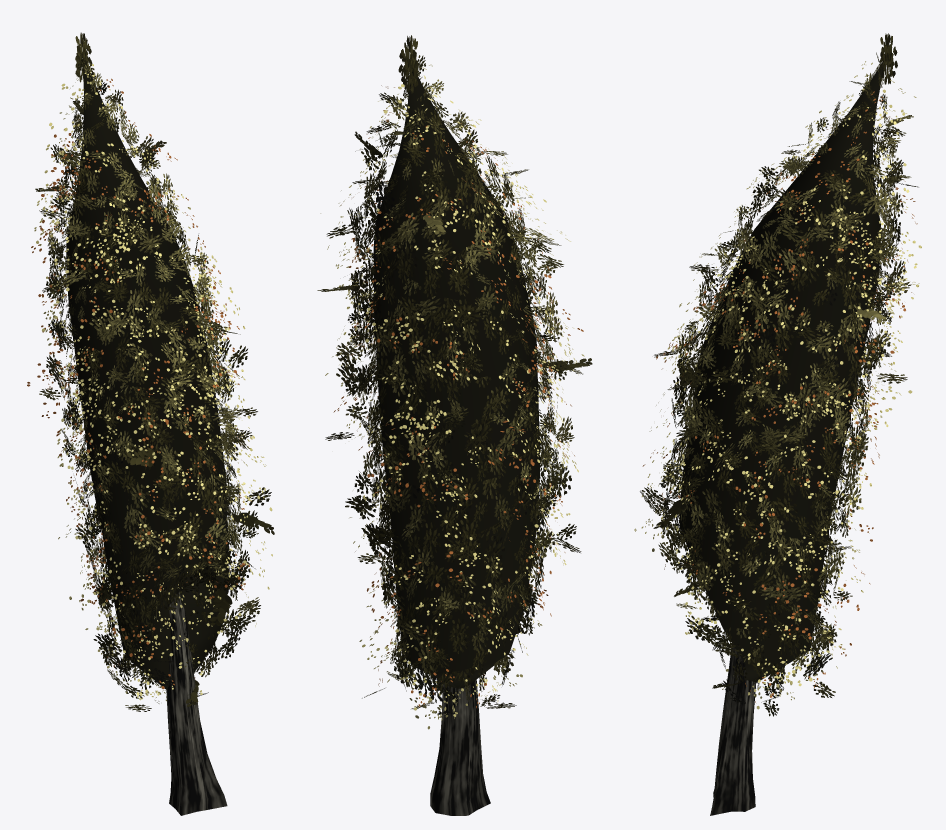
The model's file is VerTree01.glb.
The picture shows the model from 3 angles, left to right: view 1: azimuth 30°, elevation 25°; view 2: azimuth 150°, elevation 25°; view 3: azimuth 270°, elevation 25°; orthographic projection. The views are drawn at different scales.
Parts seen in each view (by area): view 1: VerTree01_leaves; view 2: VerTree01_leaves; view 3: VerTree01_leaves.
Boxes of the visible parts, bbox=[...] form: VerTree01_leaves: bbox=[27, 32, 274, 815]; VerTree01_leaves: bbox=[317, 35, 592, 815]; VerTree01_leaves: bbox=[634, 33, 921, 815].
Size of the model in its own units: 3.62 by 12.44 by 4.45.
3 materials, 2 textured.
